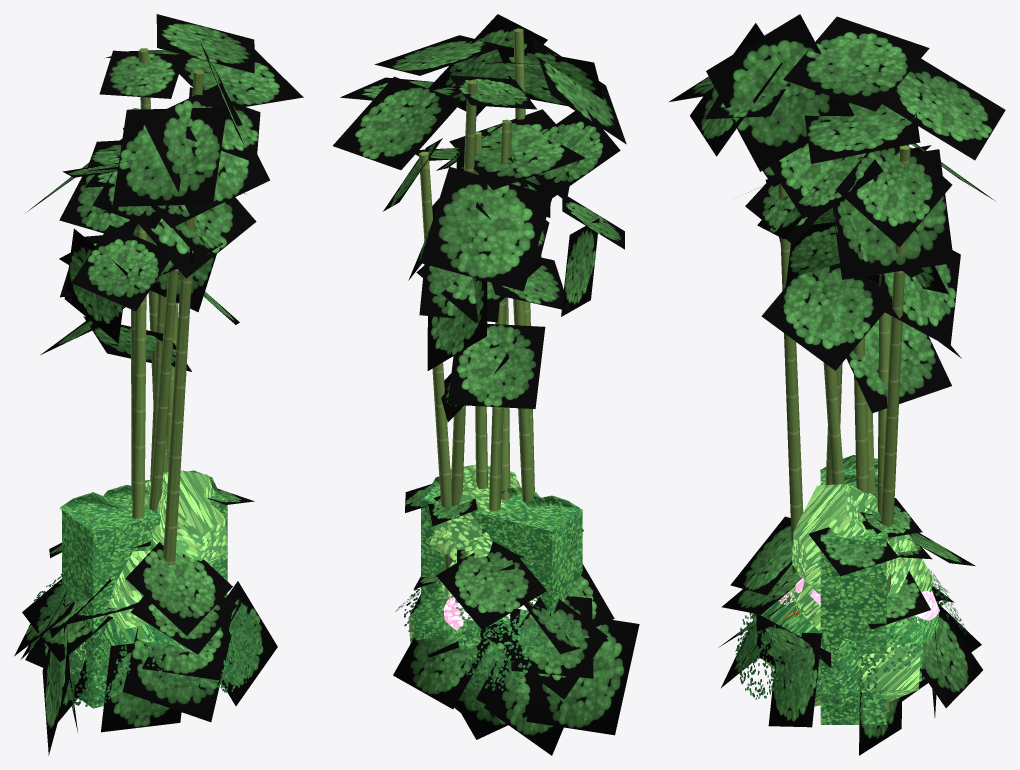
Rendered from bushes.gltf.
3 views of the same model, side by side, from view 1: azimuth 30°, elevation 25°; view 2: azimuth 150°, elevation 25°; view 3: azimuth 270°, elevation 25° (orthographic). The views are drawn at different scales.
Parts seen in each view (by area): view 1: BambooClump, BushTall, BushAzalea, HedgeBlock, BushRound, BushFlower; view 2: BambooClump, BushAzalea, BushTall, HedgeBlock, BushRound, BushFlower; view 3: BambooClump, BushTall, HedgeBlock, BushAzalea, BushRound, BushFlower.
Part boxes in pixels (x1=…): BambooClump: x1=27, y1=14, x2=303, y2=564; BushTall: x1=49, y1=470, x2=254, y2=732; BushAzalea: x1=14, y1=579, x2=277, y2=755; HedgeBlock: x1=60, y1=470, x2=227, y2=708; BushRound: x1=33, y1=573, x2=261, y2=706; BushFlower: x1=37, y1=566, x2=256, y2=701; BambooClump: x1=333, y1=14, x2=626, y2=569; BushAzalea: x1=408, y1=594, x2=639, y2=755; BushTall: x1=393, y1=464, x2=614, y2=712; HedgeBlock: x1=421, y1=476, x2=582, y2=615; BushRound: x1=395, y1=572, x2=602, y2=690; BushFlower: x1=414, y1=587, x2=576, y2=713; BambooClump: x1=669, y1=14, x2=1005, y2=712; BushTall: x1=718, y1=484, x2=982, y2=755; HedgeBlock: x1=820, y1=455, x2=888, y2=724; BushAzalea: x1=721, y1=585, x2=981, y2=727; BushRound: x1=736, y1=568, x2=966, y2=713; BushFlower: x1=735, y1=577, x2=939, y2=703.
Size of the model in its own units: 3.74 by 9.96 by 4.1.
9 materials, 9 textured.
